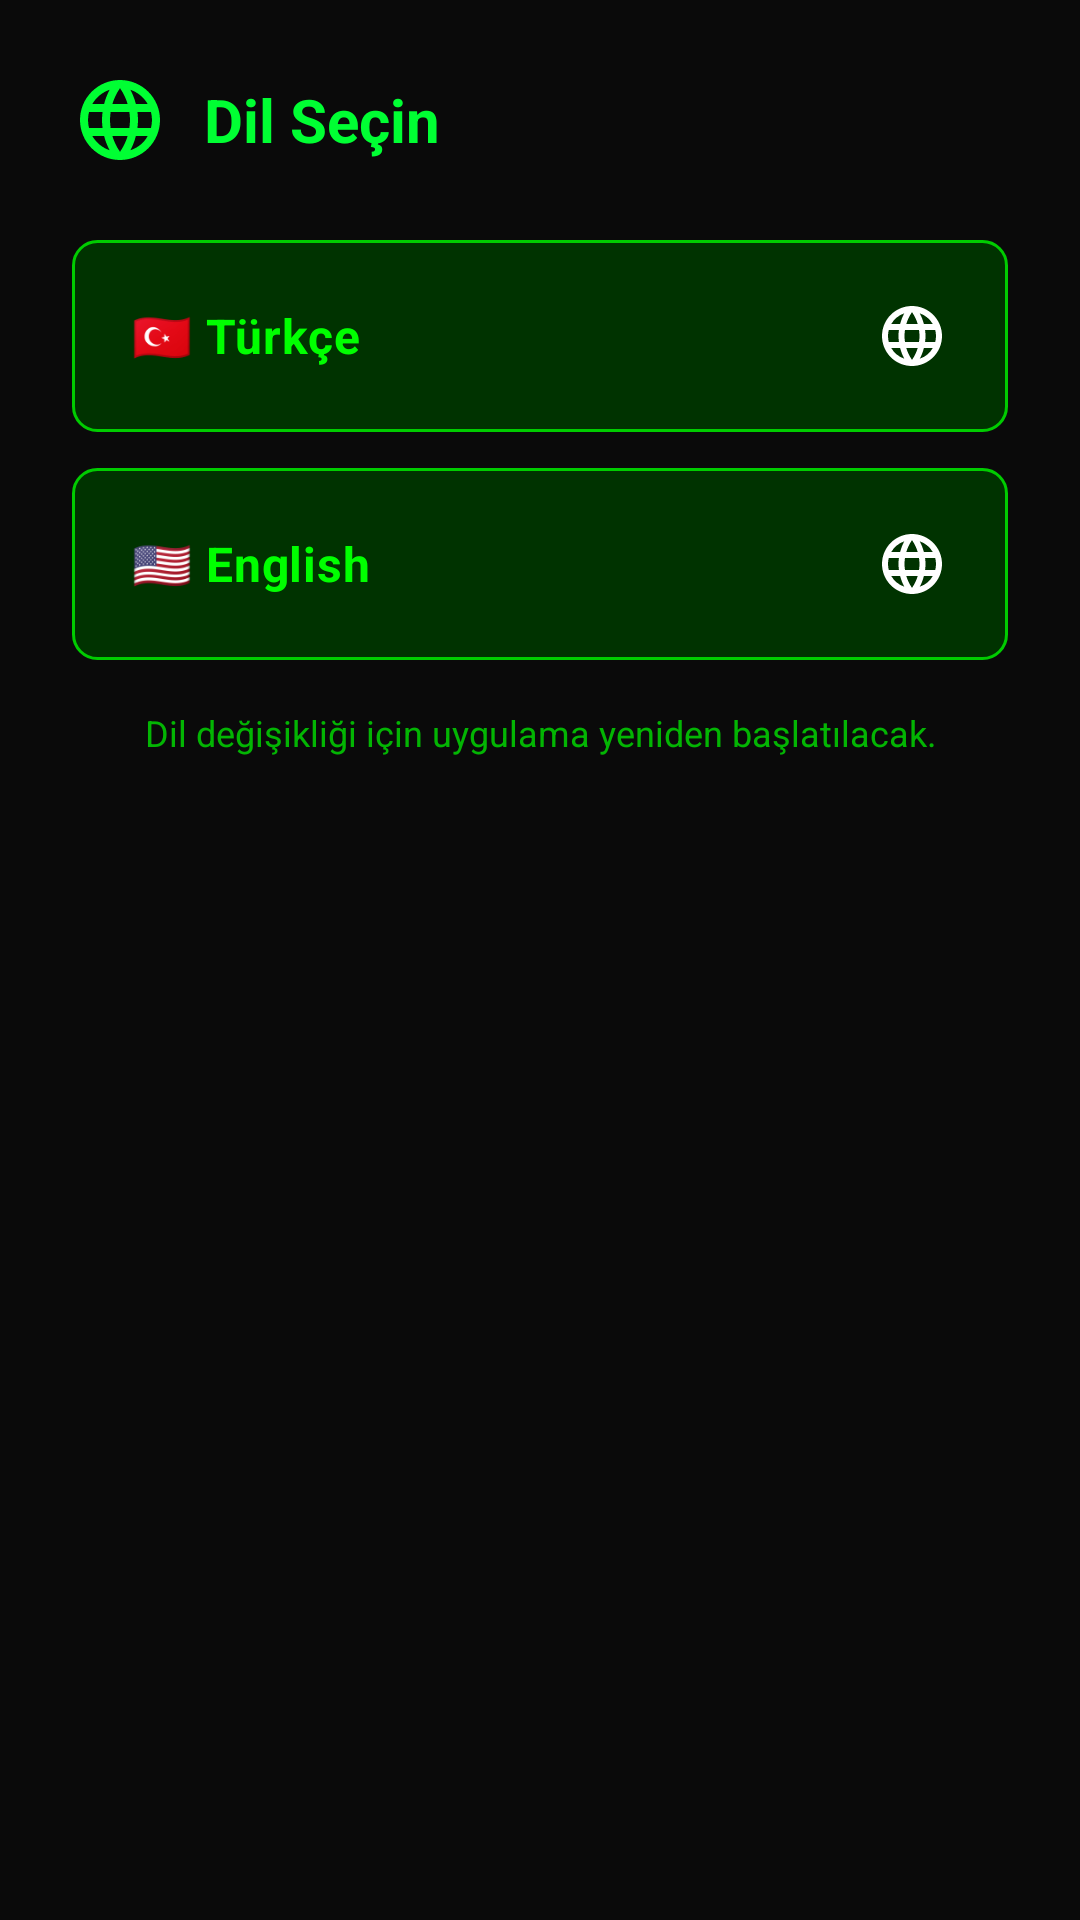

Icon bounding boxes for this 1080 × 1920 phone screenshot, format (x1, y1, x2, y2):
language: (80, 80, 160, 160)
